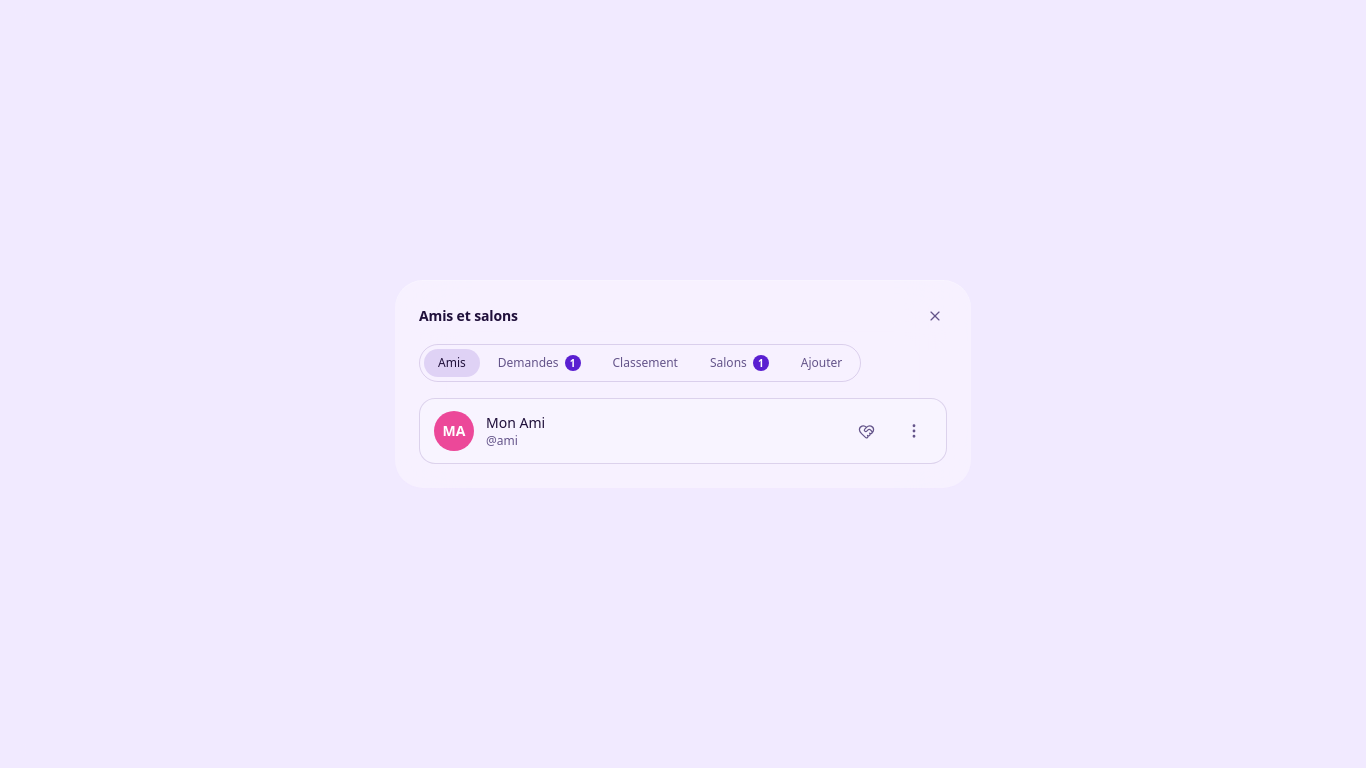
it: SocialPanel — point d’entrée social unique (LOT H2, §1) › l’onglet « Salons » affiche mes salons et porte le badge d’invitations en attente
Click the tab "Salons 1". click: (739, 363)
box: [696,349,783,377]
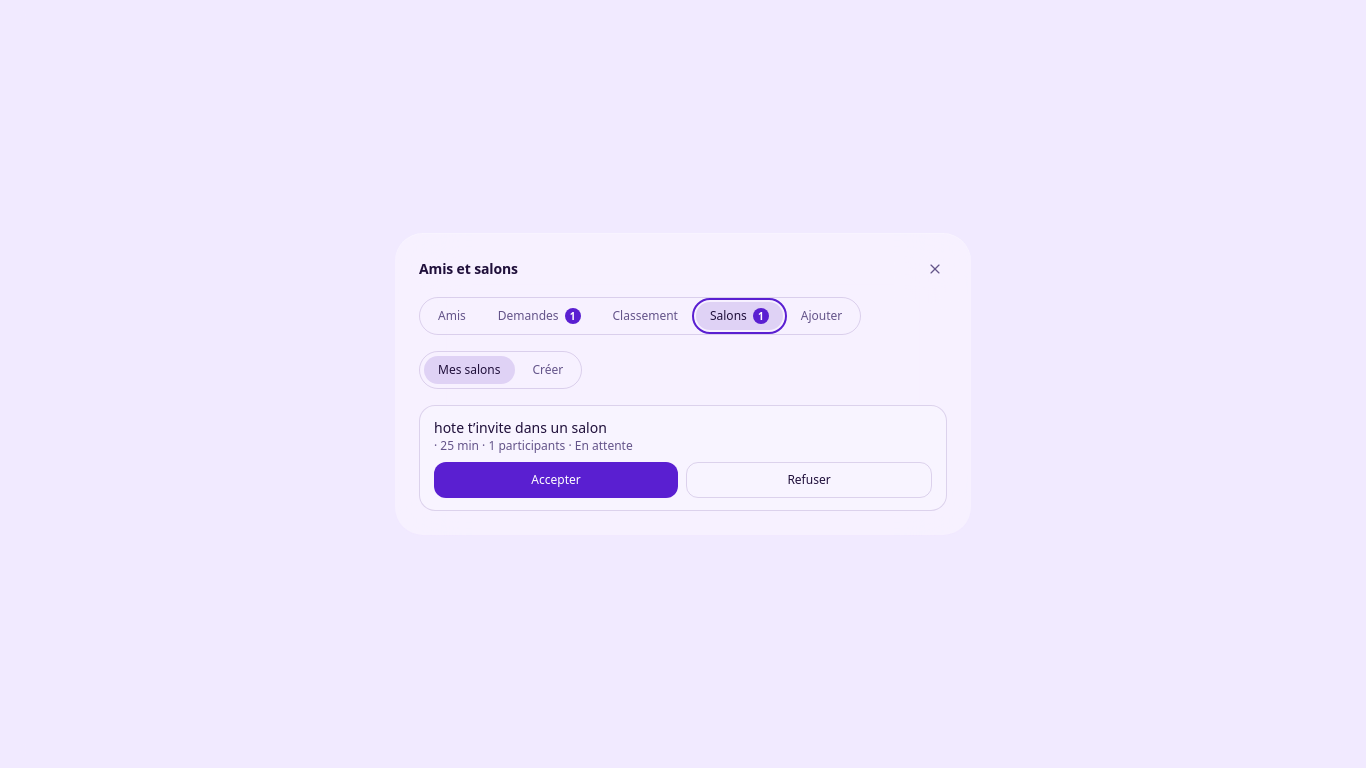
Now the text "hote t’invite dans un salon" is shown, box [434,418,633,438]
